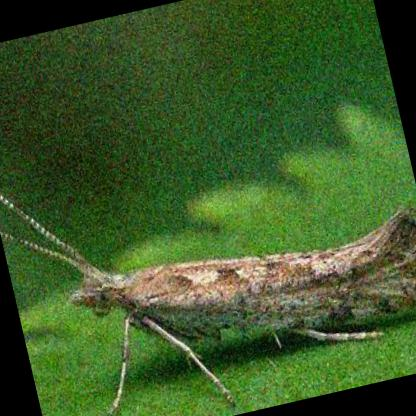plutella: (0, 195, 416, 416)
